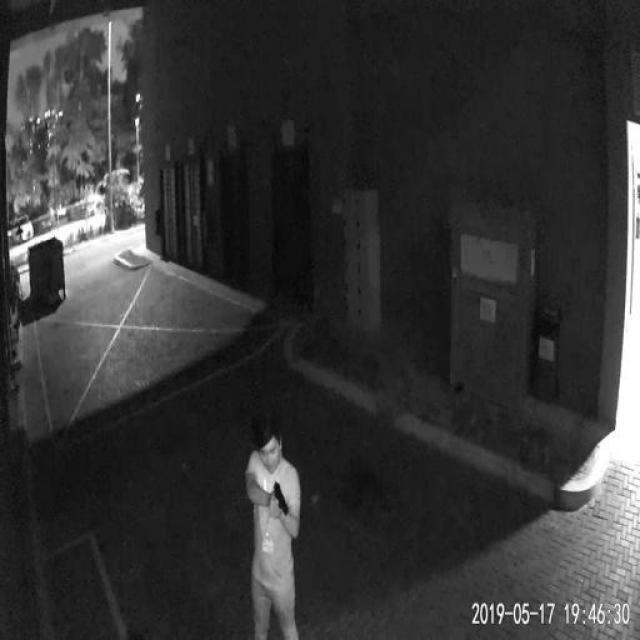weapon: (269, 479, 291, 517)
